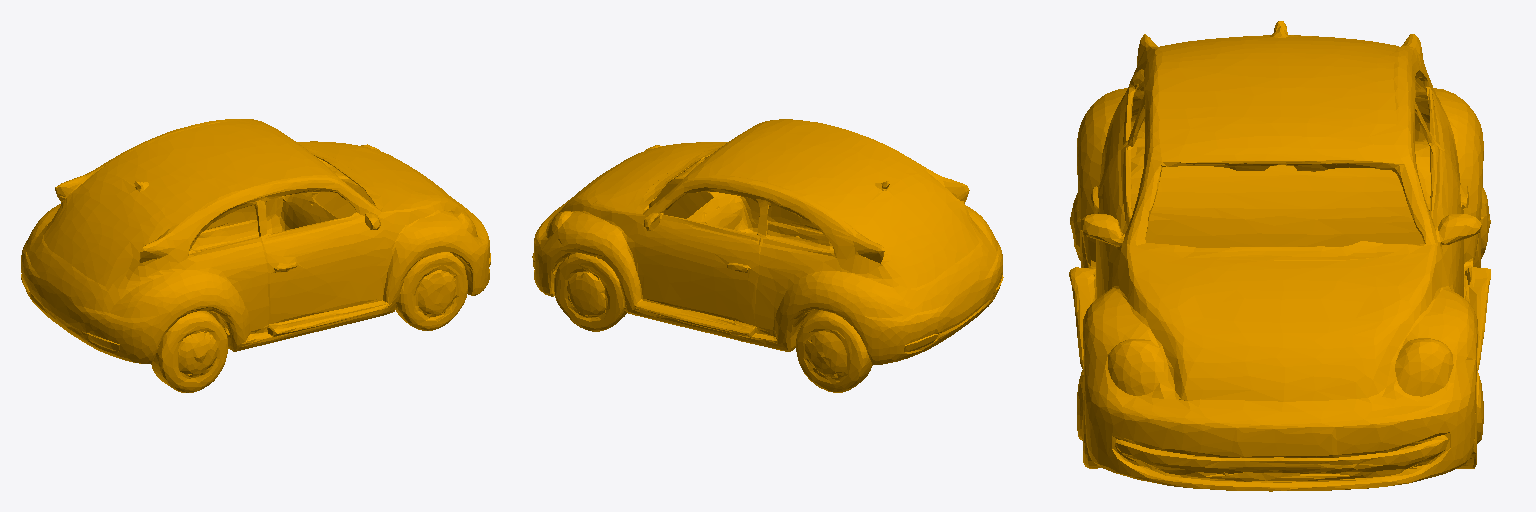
URDF robot description (sample):
<?xml version="1.0" ?>
<robot name="sample">
   <link name="sample">
      <visual>
         <origin xyz="0 0 0" rpy="1.5708 0.0 0.0"/>
         <geometry>
            <mesh filename="mesh/sample.obj" scale="1.0 1.0 1.0"/>
         </geometry>
      </visual>
      <collision>
         <origin xyz="0 0 0" rpy="1.5708 0.0 0.0"/>
         <geometry>
            <mesh filename="mesh/sample_collision.obj" scale="1.0 1.0 1.0"/>
         </geometry>
         <gazebo>
            <mu1>0.70</mu1>
            <mu2>0.50</mu2>
         </gazebo>
      </collision>
      <inertial>
         <mass value="0.7500"/>
         <origin xyz="0 0 0"/>
         <inertia ixx="1.0" ixy="0.0" ixz="0.0" iyy="1.0" iyz="0.0" izz="1.0"/>
      </inertial>
      <extra_info>
         <scale>0.546988</scale>
         <version>v0.1.7</version>
         <category>toy</category>
         <description>red toy car with rounded body and silver wheels</description>
         <min_height>0.2</min_height>
         <max_height>0.25</max_height>
         <real_height>0.225</real_height>
         <min_mass>0.5</min_mass>
         <max_mass>1.0</max_mass>
         <color>red</color>
         <rgba>[1.0, 0.0, 0.0, 1.0]</rgba>
         <generate_time>20260525112650</generate_time>
         <gs_model>mesh/sample_gs.ply</gs_model>
      </extra_info>
   </link>
   <custom_data>
      <quality>
         <MeshGeoChecker>YES</MeshGeoChecker>
         <ImageSegChecker>NO, object has visible background artifacts and incomplete edges.</ImageSegChecker>
         <ImageAestheticChecker>4.357774615287781</ImageAestheticChecker>
         <overall>NO</overall>
      </quality>
   </custom_data>
</robot>

--- What the picture shows (computed from the rendered views, not written in the file) ---
The picture shows the robot from 3 angles, left to right: view 1: azimuth 30°, elevation 25°; view 2: azimuth 150°, elevation 25°; view 3: azimuth 270°, elevation 25°; orthographic projection.
Robot: sample — 1 links, 0 joints (none); root link sample; default pose: every joint at zero.
Links seen in each view (by area): view 1: sample; view 2: sample; view 3: sample.
Link boxes in pixels (bbox=[...]): sample: bbox=[21, 119, 490, 392]; sample: bbox=[532, 119, 1003, 392]; sample: bbox=[1069, 21, 1490, 491].
Bounding box of the posed robot: 0.547 × 0.3105 × 0.225 m (x, y, z).
1 mesh visuals loaded from 1 distinct referenced files (1 OBJ).
